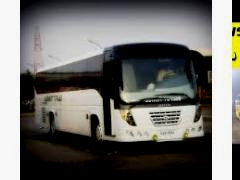bus: (27, 43, 206, 151)
